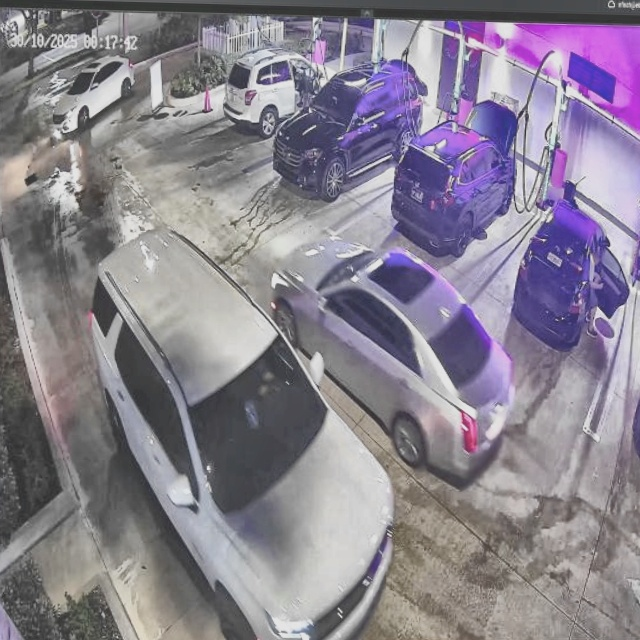Car: (87, 228, 397, 640), (283, 230, 517, 476), (284, 61, 426, 197), (399, 93, 517, 251)
